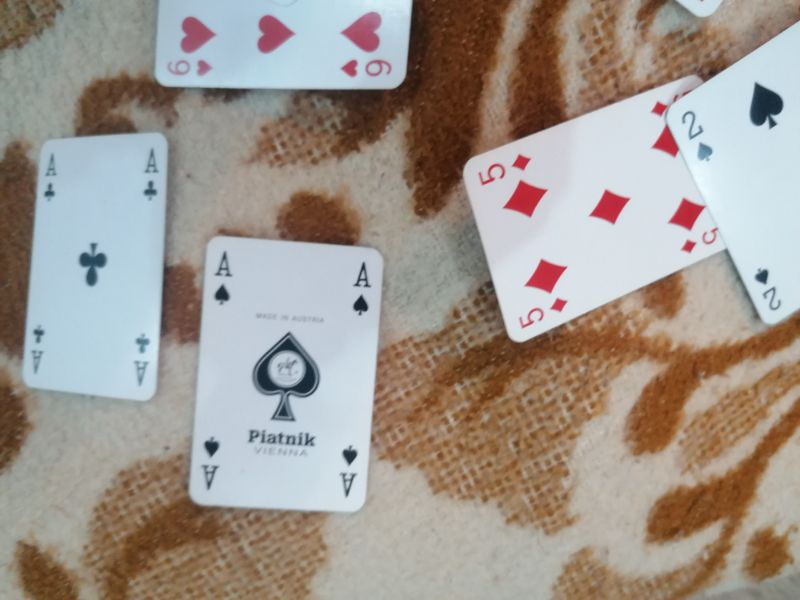2s: (677, 106, 719, 164), (751, 264, 784, 313)
5d: (476, 150, 533, 189), (515, 295, 571, 331)
6h: (336, 54, 395, 79), (162, 55, 216, 78)
Ac: (130, 327, 155, 390), (25, 322, 50, 377), (141, 145, 161, 204), (41, 149, 62, 205)
As: (336, 442, 364, 499), (211, 247, 236, 308), (349, 258, 374, 318), (200, 434, 223, 495)
